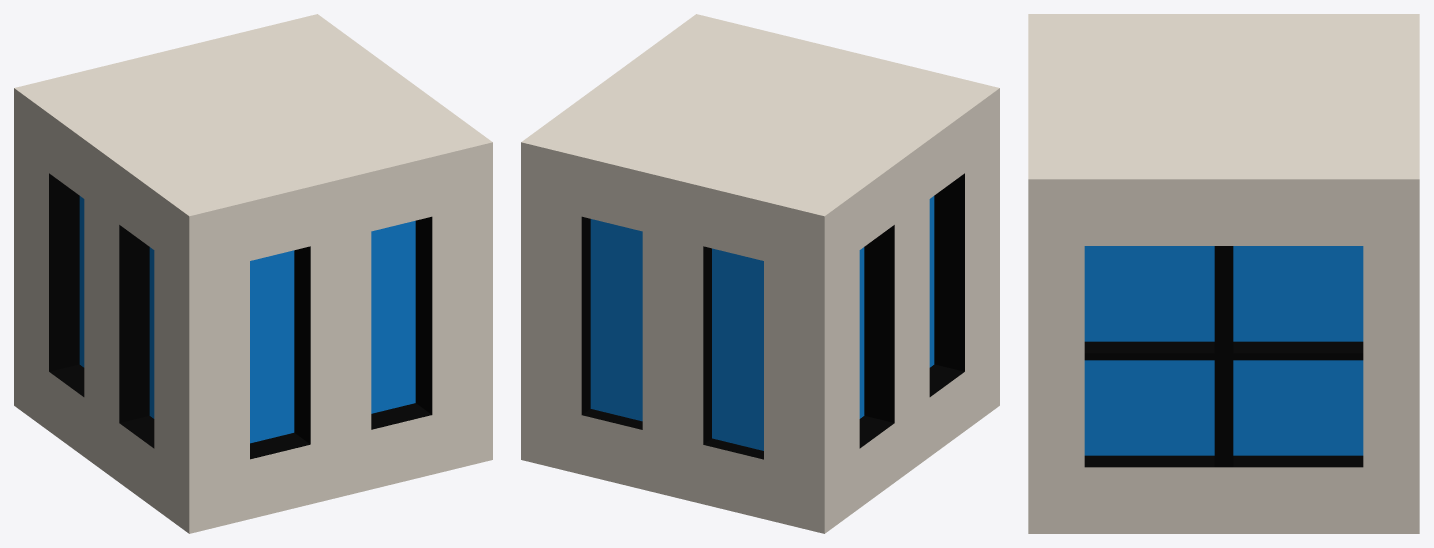
The picture shows the model from 3 angles, left to right: view 1: azimuth 30°, elevation 25°; view 2: azimuth 150°, elevation 25°; view 3: azimuth 270°, elevation 25°; orthographic projection. The views are drawn at different scales.
Parts seen in each view (by area): view 1: building.004; view 2: building.004; view 3: building.004.
Part boxes in pixels (x1,y1,x2,y2): building.004: [14, 14, 492, 533]; building.004: [521, 14, 999, 533]; building.004: [1028, 14, 1419, 533].
Size of the model in its own units: 100 by 100 by 100.
